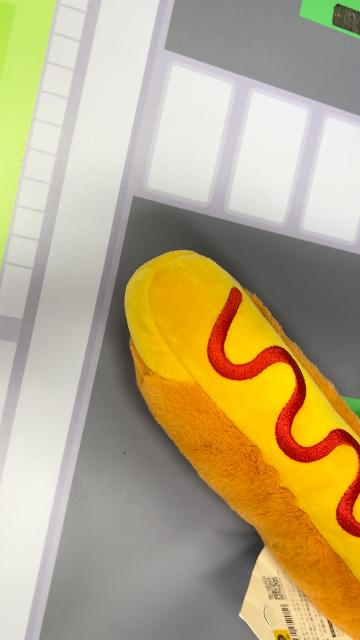hotdog: (123, 248, 358, 638)
